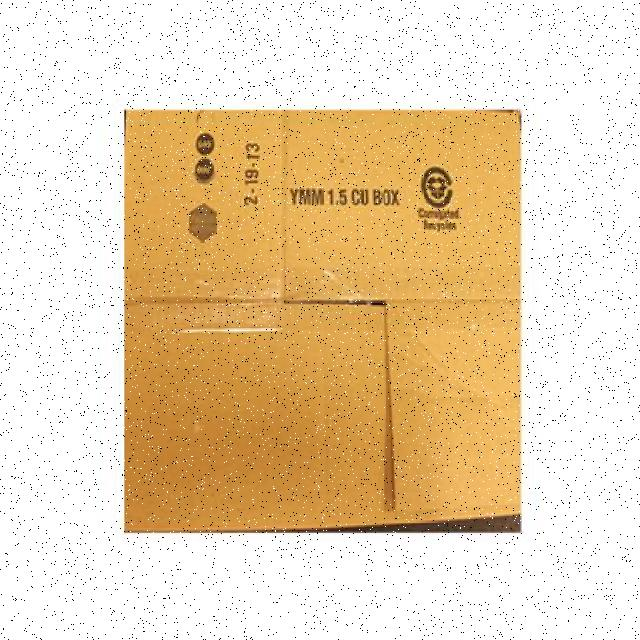normal: (115, 105, 528, 537)
